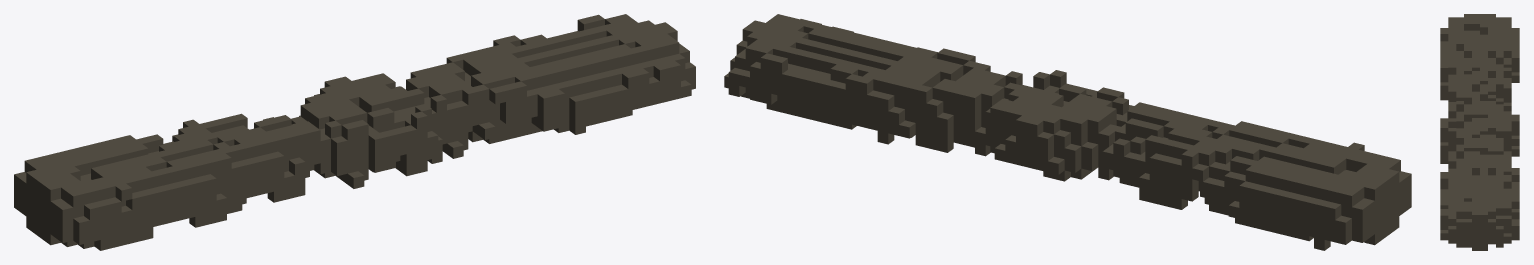
The model's file is screw.obj.
3 renders of one model, left to right at view 1: azimuth 30°, elevation 25°; view 2: azimuth 150°, elevation 25°; view 3: azimuth 270°, elevation 25°, orthographic. The views are drawn at different scales.
Bounding box in the file's own units: 6 × 0.5 × 1.
Materials: 1 (1 with a texture image).
